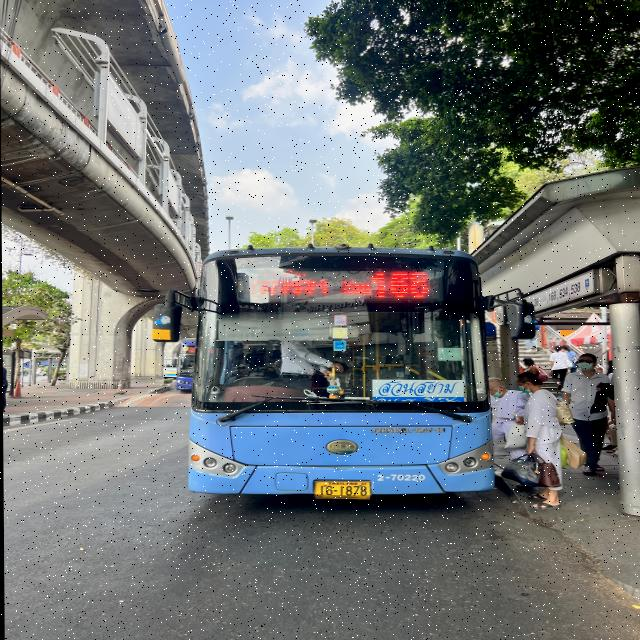BMTA-bus: (184, 248, 495, 505)
Bus-Line-Number: (368, 268, 433, 302)
Destination-Sign-Normal: (371, 378, 465, 403)
